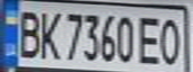0: (115, 11, 139, 64)
3: (78, 9, 100, 62)
6: (97, 11, 118, 63)
7: (60, 9, 84, 61)
B: (12, 6, 42, 60)
E: (136, 12, 163, 65)
K: (36, 7, 63, 61)
O: (157, 14, 187, 68)
